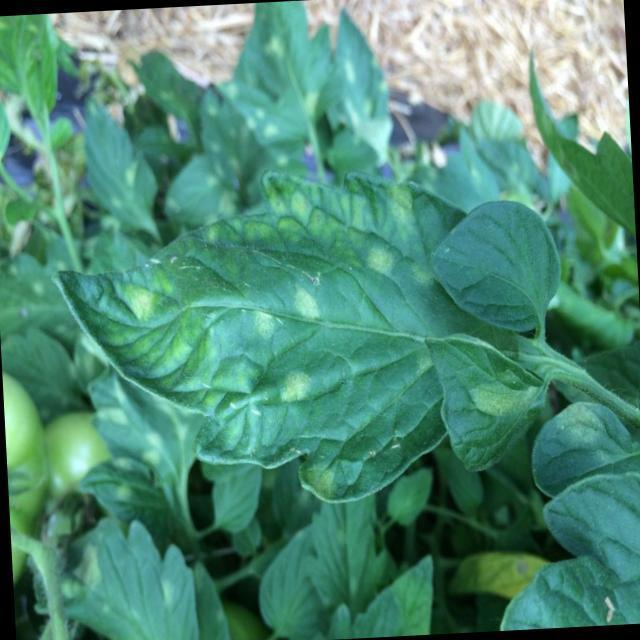Healthy Leaf: (434, 202, 576, 326)
Mosaic Virus: (46, 178, 444, 476)
